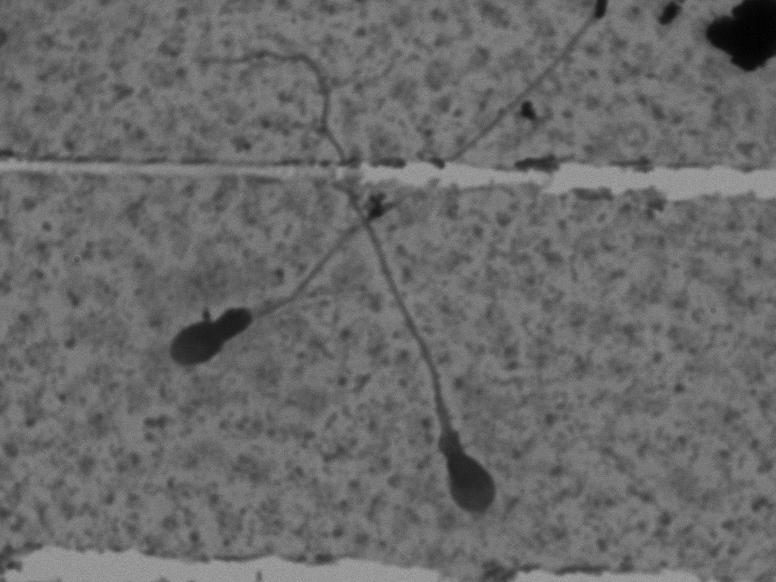Abnormal: (151, 14, 606, 389), (178, 38, 524, 531)
